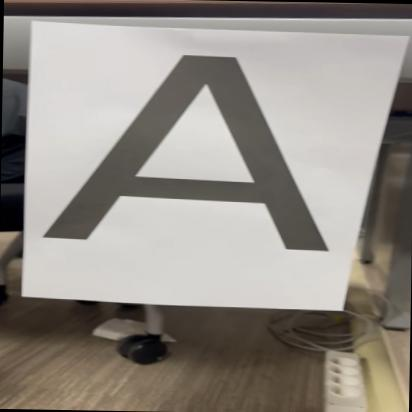seat: (44, 39, 337, 253)
